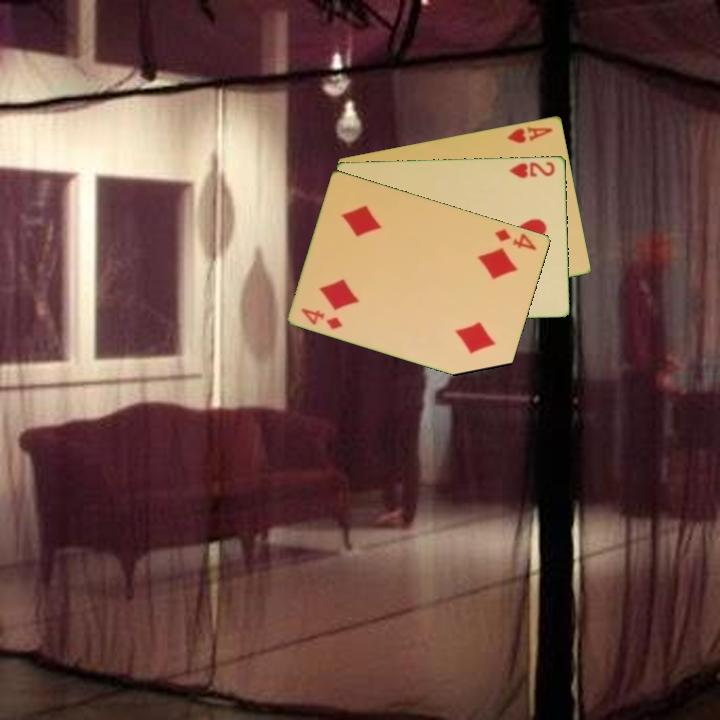2h: (506, 158, 558, 180)
4d: (298, 304, 346, 332), (492, 225, 539, 253)
Ah: (503, 123, 556, 146)
